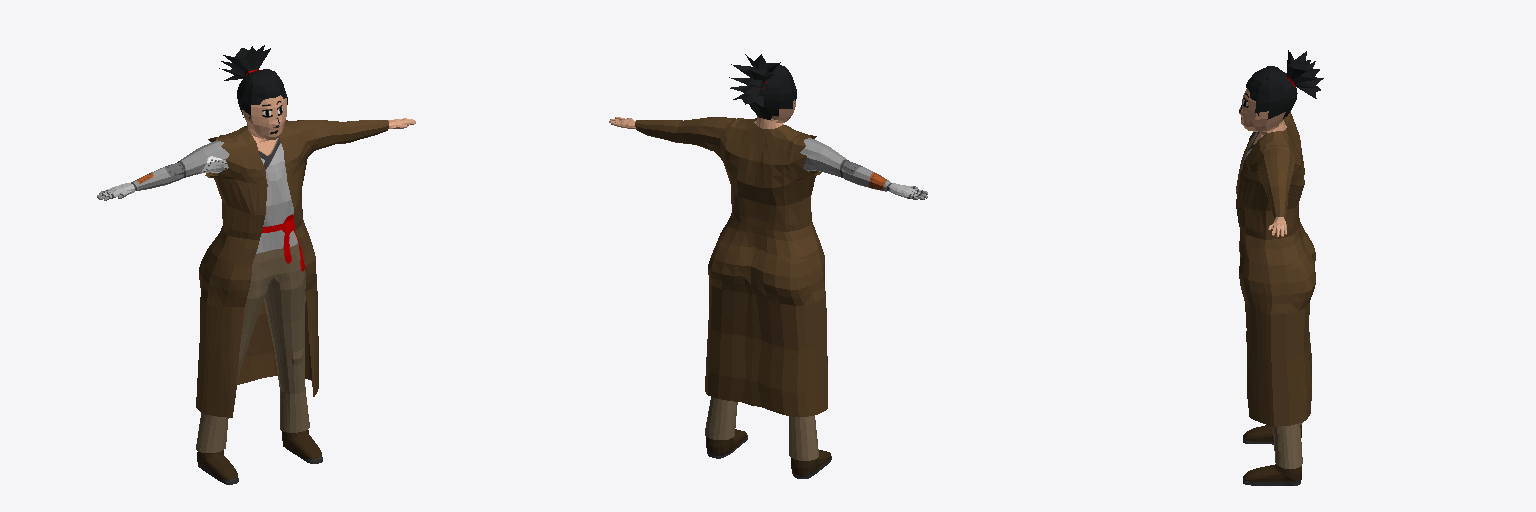
The picture shows the model from 3 angles: view 1: azimuth 30°, elevation 25°; view 2: azimuth 150°, elevation 25°; view 3: azimuth 270°, elevation 25°; orthographic projection.
Visible parts, largest first — view 1: jacket_Cube.003, modellll_Cube.002, hair_Cube.004; view 2: jacket_Cube.003, modellll_Cube.002, hair_Cube.004; view 3: jacket_Cube.003, modellll_Cube.002, hair_Cube.004.
Boxes of the visible parts, x1=… form: jacket_Cube.003: x1=196, y1=120, x2=388, y2=417; modellll_Cube.002: x1=97, y1=95, x2=415, y2=484; hair_Cube.004: x1=219, y1=45, x2=287, y2=117; jacket_Cube.003: x1=635, y1=117, x2=827, y2=417; modellll_Cube.002: x1=609, y1=100, x2=927, y2=478; hair_Cube.004: x1=729, y1=54, x2=796, y2=119; jacket_Cube.003: x1=1236, y1=111, x2=1315, y2=426; modellll_Cube.002: x1=1239, y1=89, x2=1302, y2=485; hair_Cube.004: x1=1246, y1=50, x2=1323, y2=119.
Bounding box in the file's own units: 2.49 × 3.08 × 0.6015.
Materials: 3 (1 with a texture image).